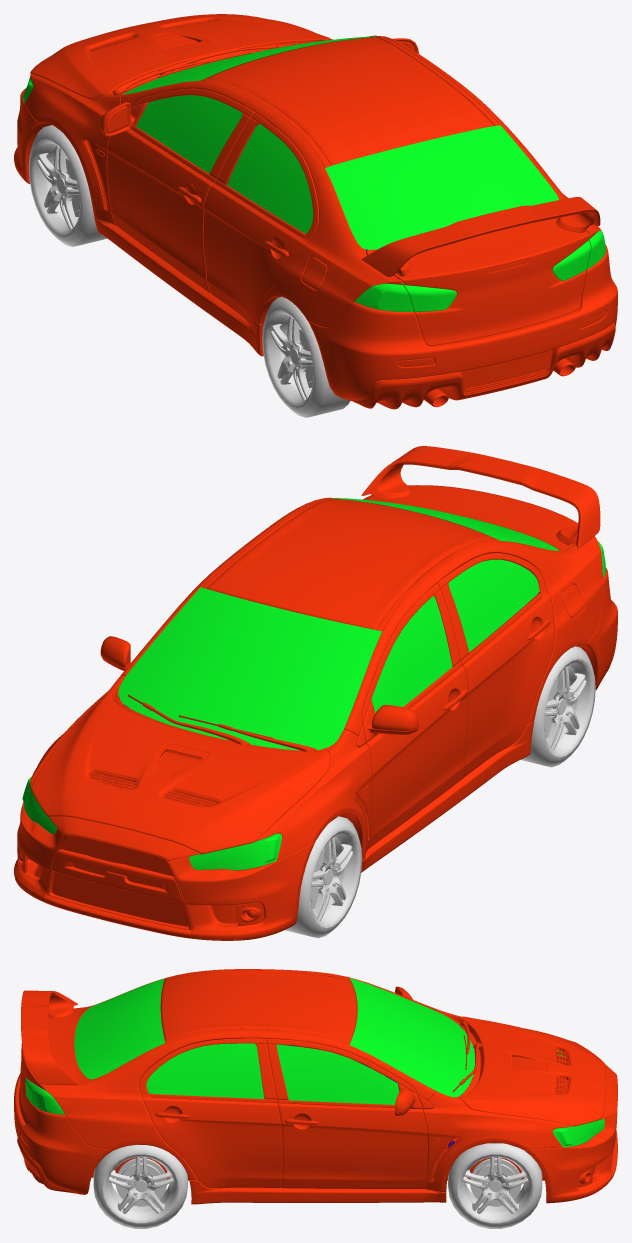
The model's file is Jucar.fbx.
3 renders of one model, top to bottom at view 1: azimuth 30°, elevation 25°; view 2: azimuth 150°, elevation 25°; view 3: azimuth 270°, elevation 25°, orthographic. The views are drawn at different scales.
Visible parts, largest first — view 1: JuCar_Body, Glasse_Back, Door_Front_Right, Hood, Door_Back_Right, Wheel_Back_Jucar_Left, Wheel_Front_Jucar_Left, JuCar_Aero, Door_Glasse_Back_Right, Door_Glasse_Front_Right, Back_Lights, Glasse_Front (+1 smaller); view 2: JuCar_Body, Glasse_Front, Hood, Door_Front_Right, Door_Back_Right, JuCar_Aero, Wheel_Front_Jucar_Left, Wheel_Back_Jucar_Left, Door_Glasse_Front_Right, Door_Glasse_Back_Right, Front_Lights, Glasse_Back (+1 smaller); view 3: JuCar_Body, Door_Front_Left, Door_Back_Left, Hood, Glasse_Front, Wheel_Front_Jucar_Right, Wheel_Back_Jucar_Right, Glasse_Back, Door_Glasse_Back_Right, Door_Glasse_Front_Right, JuCar_Aero, Front_Lights (+1 smaller).
Part boxes in pixels (<box>): JuCar_Body: <box>14,21,617,409</box>; Glasse_Back: <box>325,125,559,249</box>; Door_Front_Right: <box>100,88,254,292</box>; Hood: <box>30,14,329,99</box>; Door_Back_Right: <box>203,112,318,325</box>; Wheel_Back_Jucar_Left: <box>262,297,350,417</box>; Wheel_Front_Jucar_Left: <box>28,125,106,246</box>; JuCar_Aero: <box>361,197,600,276</box>; Door_Glasse_Back_Right: <box>226,124,313,233</box>; Door_Glasse_Front_Right: <box>136,95,242,173</box>; Back_Lights: <box>355,230,605,311</box>; Glasse_Front: <box>122,36,378,94</box>; JuCar_Body: <box>14,485,617,940</box>; Glasse_Front: <box>118,587,382,750</box>; Hood: <box>30,696,330,854</box>; Door_Front_Right: <box>355,583,469,848</box>; Door_Back_Right: <box>438,553,554,776</box>; JuCar_Aero: <box>361,446,600,548</box>; Wheel_Front_Jucar_Left: <box>285,816,362,938</box>; Wheel_Back_Jucar_Left: <box>520,646,595,767</box>; Door_Glasse_Front_Right: <box>371,596,452,712</box>; Door_Glasse_Back_Right: <box>448,559,539,652</box>; Front_Lights: <box>22,776,281,870</box>; Glasse_Back: <box>328,498,558,550</box>; JuCar_Body: <box>14,969,617,1204</box>; Door_Front_Left: <box>266,1038,427,1189</box>; Door_Back_Left: <box>139,1038,282,1188</box>; Hood: <box>459,1016,605,1126</box>; Glasse_Front: <box>349,978,474,1097</box>; Wheel_Front_Jucar_Right: <box>448,1143,542,1228</box>; Wheel_Back_Jucar_Right: <box>93,1144,187,1228</box>; Glasse_Back: <box>74,978,165,1079</box>; Door_Glasse_Back_Right: <box>146,1043,264,1098</box>; Door_Glasse_Front_Right: <box>276,1044,399,1104</box>; JuCar_Aero: <box>21,990,78,1084</box>; Front_Lights: <box>552,1050,604,1147</box>.
Bounding box in the file's own units: 662 × 1450 × 483.
